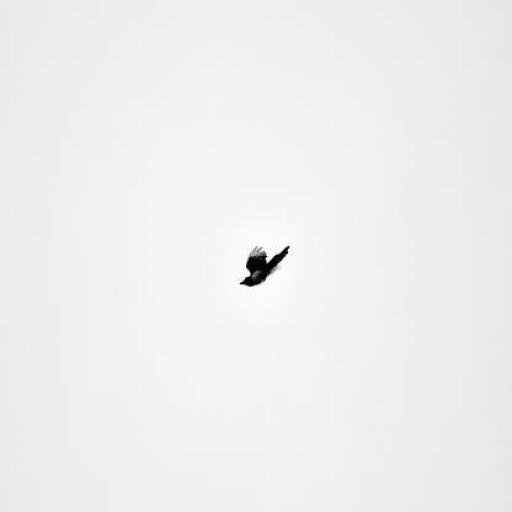bird: (240, 245, 290, 287)
